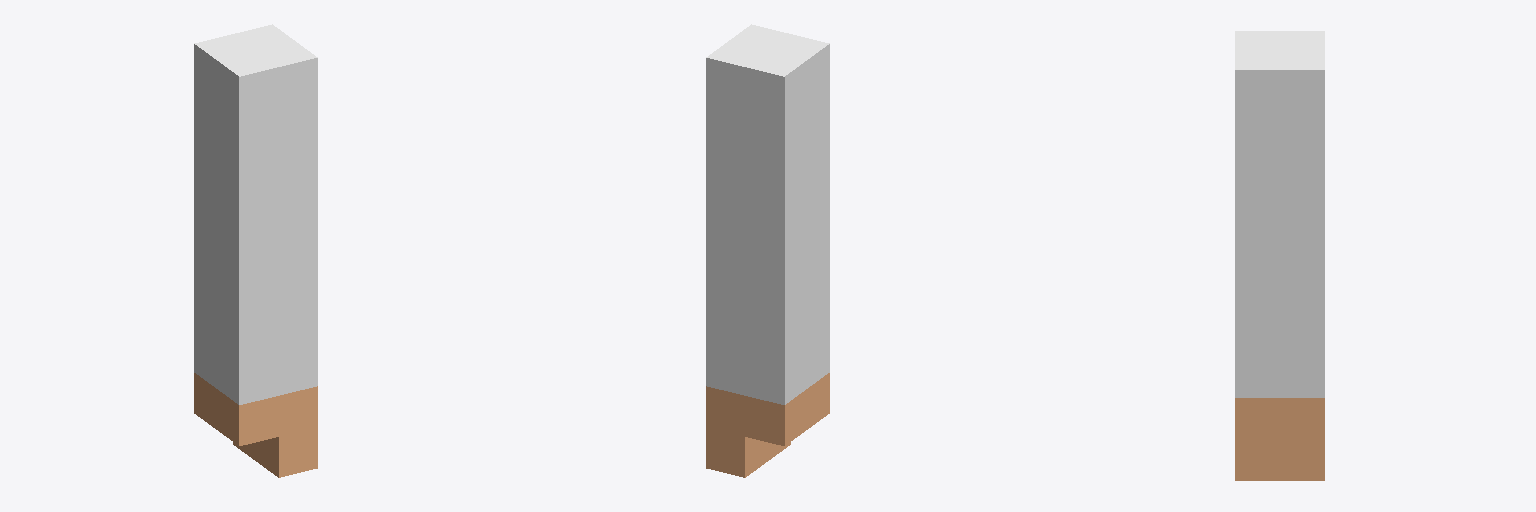
3 renders of one model, left to right at view 1: azimuth 30°, elevation 25°; view 2: azimuth 150°, elevation 25°; view 3: azimuth 270°, elevation 25°, orthographic.
Visible parts, largest first — view 1: object 1; view 2: object 1; view 3: object 1.
Part boxes in pixels (x1,y1,x2,y2): object 1: (194,24,317,477); object 1: (706,24,829,477); object 1: (1235,31,1324,480).
Bounding box in the file's own units: 0.2 × 1 × 0.2.
1 materials, 1 textured.